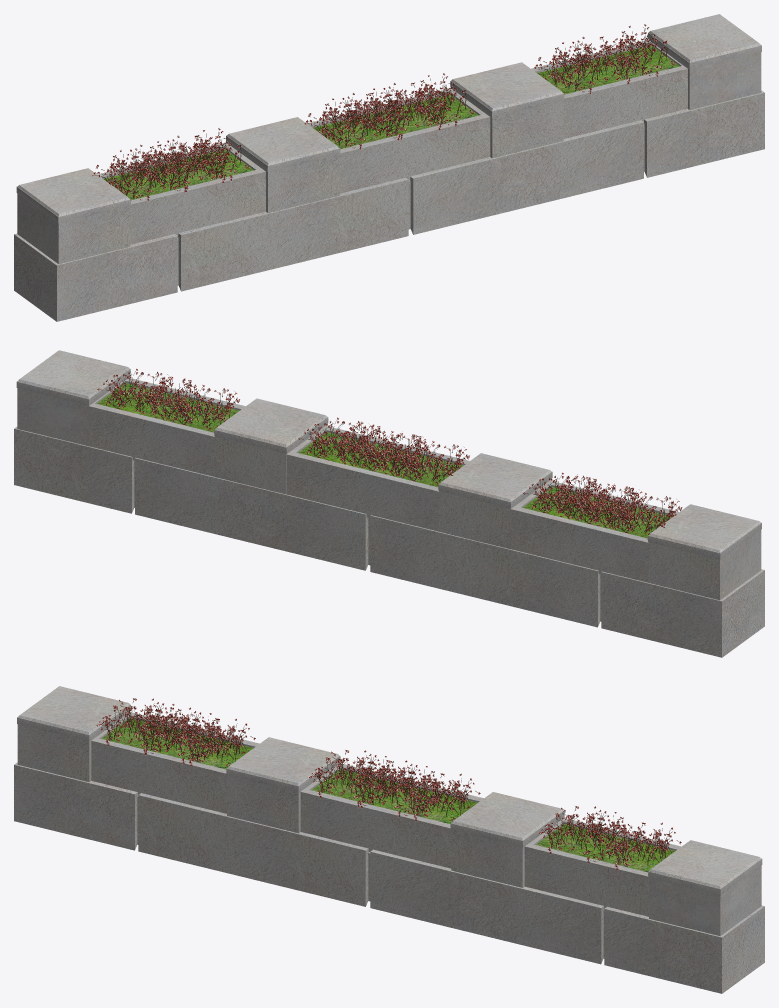
The model's file is jardinera.obj.
3 views of the same model, one above another, from view 1: azimuth 30°, elevation 25°; view 2: azimuth 150°, elevation 25°; view 3: azimuth 330°, elevation 25° (orthographic).
Parts seen in each view (by area): view 1: objFence; view 2: objFence; view 3: objFence.
Part boxes in pixels (bbox=[...]): objFence: bbox=[14, 14, 764, 321]; objFence: bbox=[14, 350, 764, 657]; objFence: bbox=[14, 686, 764, 993].
Bounding box in the file's own units: 11.61 × 1.92 × 1.22.
Materials: 4 (4 with a texture image).
